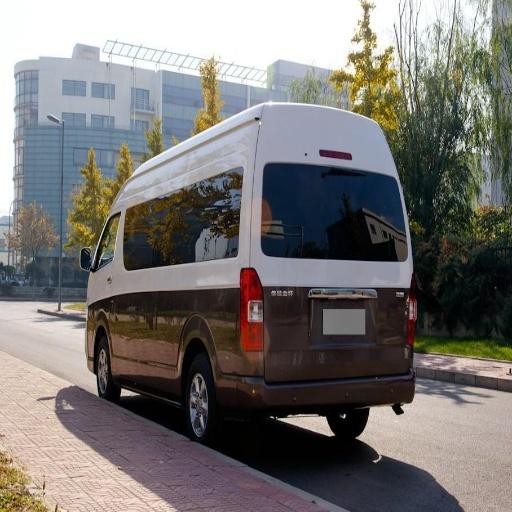back_bumper: (234, 360, 414, 404)
trunk: (120, 258, 409, 388)
